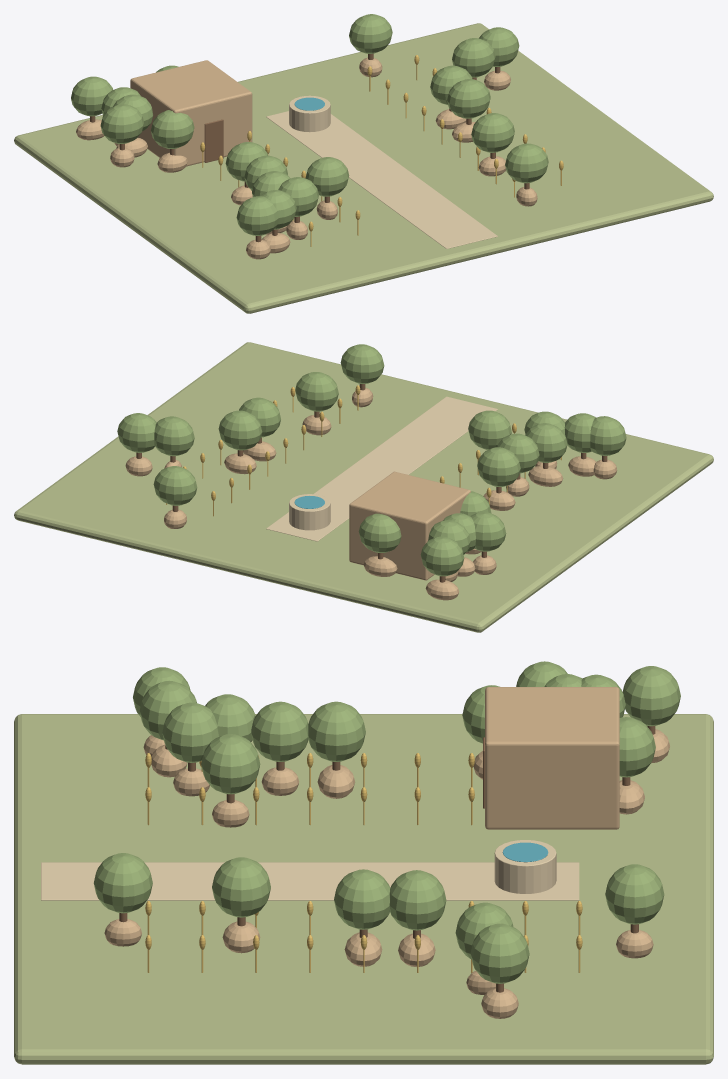
Rendered from story-ruth.glb.
The picture shows the model from 3 angles, top to bottom: view 1: azimuth 30°, elevation 25°; view 2: azimuth 150°, elevation 25°; view 3: azimuth 270°, elevation 25°; orthographic projection. The views are drawn at different scales.
Visible parts, largest first — view 1: Game mesh Ground.001, Game mesh Olive canopy.001, Game mesh Ochre plaster.001, Game mesh Sunlit stone.001, Game mesh Royal gold.001, Game mesh Cedar beams.001; view 2: Game mesh Ground.001, Game mesh Olive canopy.001, Game mesh Ochre plaster.001, Game mesh Sunlit stone.001, Game mesh Royal gold.001, Game mesh Cedar beams.001; view 3: Game mesh Ground.001, Game mesh Olive canopy.001, Game mesh Ochre plaster.001, Game mesh Sunlit stone.001, Game mesh Royal gold.001, Game mesh Cedar beams.001, Game mesh Blue water.001.
Boxes of the visible parts, x1,y1,x2,y2 form: Game mesh Ground.001: [14, 23, 713, 313]; Game mesh Olive canopy.001: [71, 14, 548, 235]; Game mesh Ochre plaster.001: [76, 57, 537, 259]; Game mesh Sunlit stone.001: [266, 95, 497, 248]; Game mesh Royal gold.001: [200, 55, 563, 246]; Game mesh Cedar beams.001: [90, 53, 529, 242]; Game mesh Ground.001: [14, 342, 713, 632]; Game mesh Olive canopy.001: [117, 344, 626, 576]; Game mesh Ochre plaster.001: [125, 388, 617, 600]; Game mesh Sunlit stone.001: [266, 396, 497, 541]; Game mesh Royal gold.001: [166, 385, 561, 516]; Game mesh Cedar beams.001: [136, 384, 607, 582]; Game mesh Ground.001: [14, 714, 713, 1064]; Game mesh Olive canopy.001: [93, 661, 680, 983]; Game mesh Ochre plaster.001: [104, 687, 669, 1018]; Game mesh Sunlit stone.001: [41, 840, 579, 900]; Game mesh Royal gold.001: [145, 753, 582, 972]; Game mesh Cedar beams.001: [119, 726, 655, 992]; Game mesh Blue water.001: [502, 842, 548, 862].
Size of the model in its own units: 30 by 4.2 by 26.
